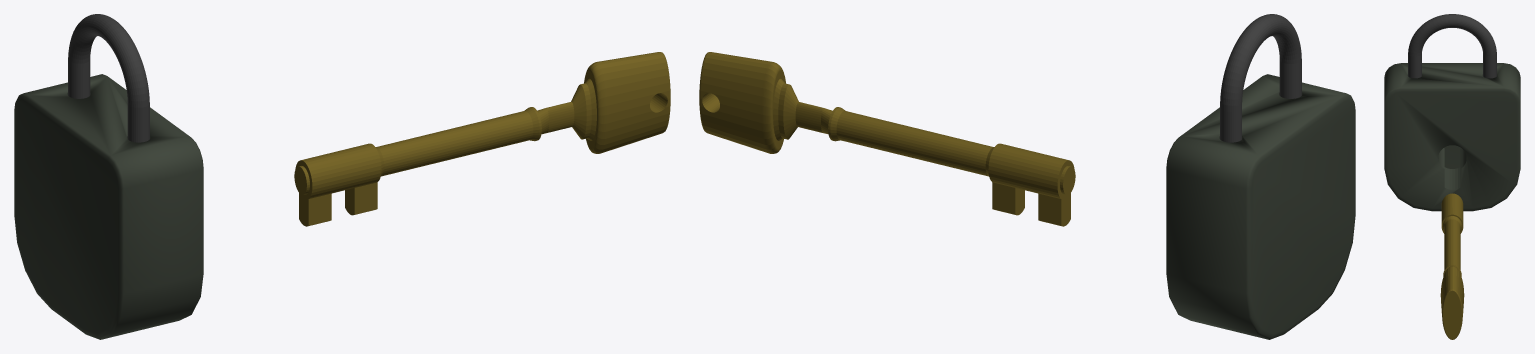
The model's file is Key and lock 2.fbx.
3 renders of one model, left to right at view 1: azimuth 30°, elevation 25°; view 2: azimuth 150°, elevation 25°; view 3: azimuth 270°, elevation 25°, orthographic. The views are drawn at different scales.
Parts seen in each view (by area): view 1: Cube, Cylinder.001, Cylinder; view 2: Cube, Cylinder.001, Cylinder; view 3: Cube, Cylinder.001, Cylinder.
Boxes of the visible parts, x1=… form: Cube: x1=14, y1=74, x2=203, y2=339; Cylinder.001: x1=294, y1=52, x2=670, y2=226; Cylinder: x1=68, y1=14, x2=149, y2=142; Cube: x1=1166, y1=74, x2=1355, y2=339; Cylinder.001: x1=699, y1=52, x2=1075, y2=226; Cylinder: x1=1220, y1=14, x2=1301, y2=142; Cube: x1=1384, y1=63, x2=1520, y2=211; Cylinder.001: x1=1440, y1=193, x2=1464, y2=339; Cylinder: x1=1408, y1=14, x2=1496, y2=78.
Bounding box in the file's own units: 633 × 298 × 200.
